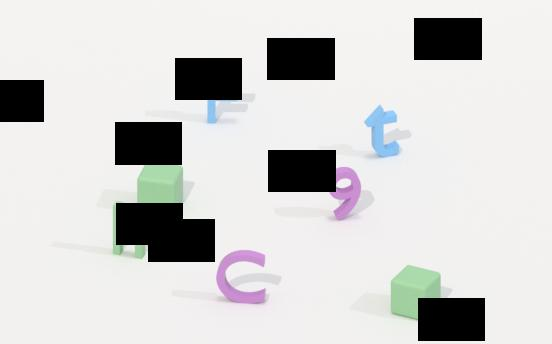9: (323, 166, 367, 222)
F: (201, 65, 246, 127)
c: (213, 248, 275, 305)
h: (111, 198, 153, 261)
hop: (388, 262, 448, 322), (133, 159, 188, 218)
t: (362, 104, 407, 160)
